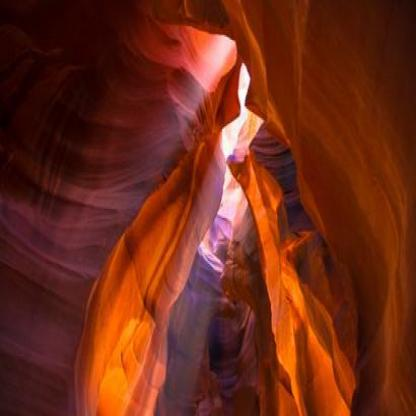other: (234, 126, 396, 400), (54, 127, 210, 402)
